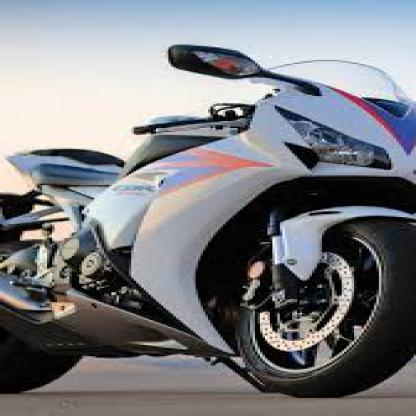Motorcycle: (0, 39, 414, 402)
